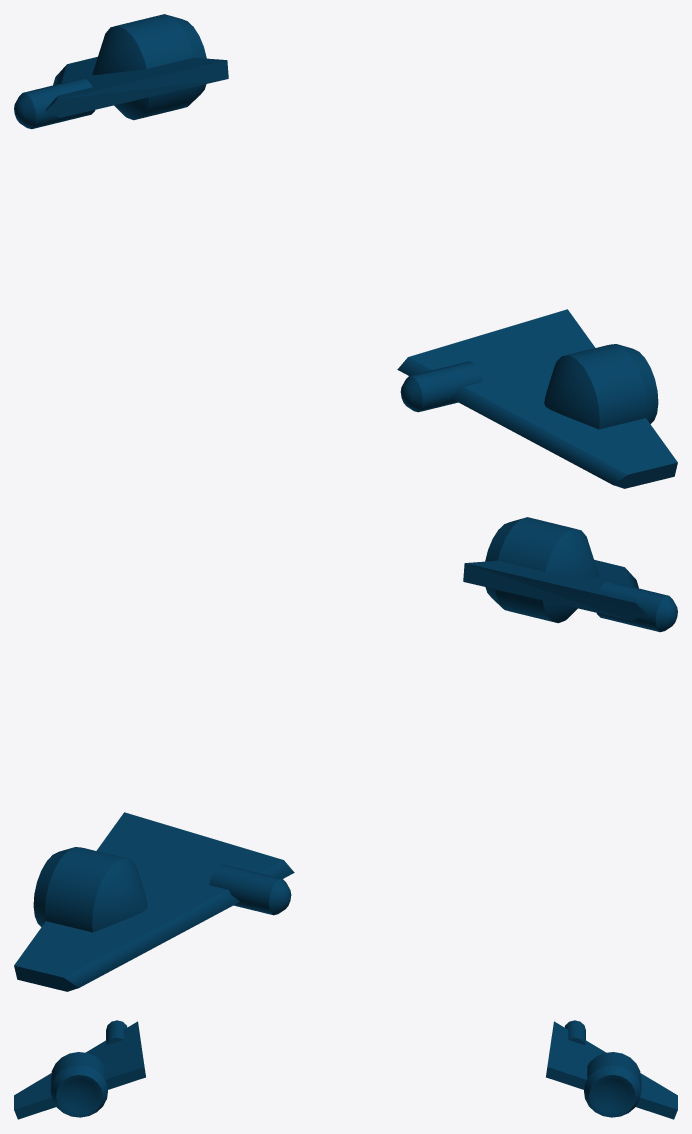
Rendered from SSv1_SWings_v1.FBX.
3 renders of one model, top to bottom at view 1: azimuth 30°, elevation 25°; view 2: azimuth 150°, elevation 25°; view 3: azimuth 270°, elevation 25°, orthographic. The views are drawn at different scales.
Parts seen in each view (by area): view 1: SSv1_SWings_v1; view 2: SSv1_SWings_v1; view 3: SSv1_SWings_v1.
Boxes of the visible parts, x1,y1,x2,y2 form: SSv1_SWings_v1: (14,14,677,488); SSv1_SWings_v1: (14,517,677,991); SSv1_SWings_v1: (14,1020,677,1119).
Size of the model in its own units: 8.44 by 3.61 by 40.16.
